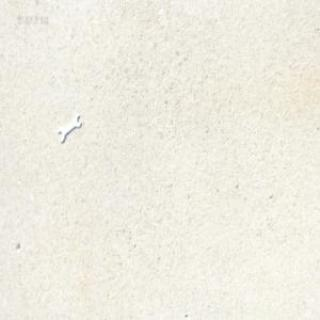Wrenchtrack_idkeyframe: (56, 112, 81, 146)
